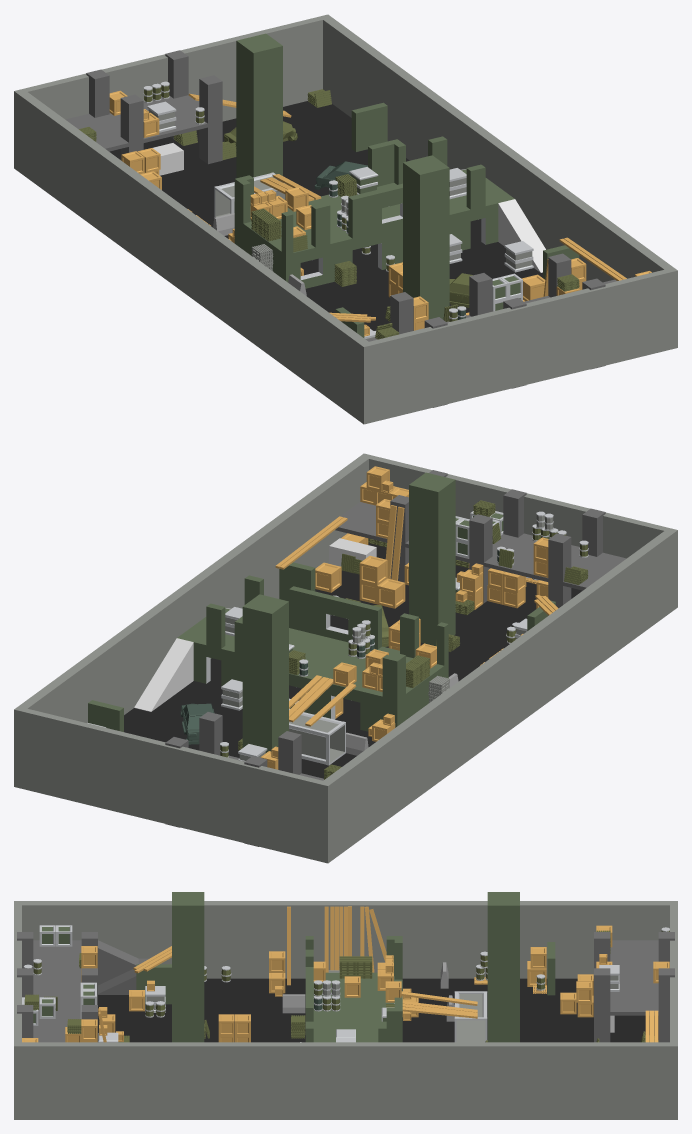
Rendered from outpost.glb.
The picture shows the model from 3 angles, top to bottom: view 1: azimuth 30°, elevation 25°; view 2: azimuth 150°, elevation 25°; view 3: azimuth 270°, elevation 25°; orthographic projection. The views are drawn at different scales.
Parts seen in each view (by area): view 1: Cube.005_0, Cube_0, Plane_0, up2_0, Box_0, obj.000_0, Cube.005_1, Cube.001_0, Barrel.013_0; view 2: Cube.005_0, Cube_0, Box_0, up2_0, Plane_0, obj.000_0, Cube.005_1, Cube.001_0, Barrel.013_0; view 3: Cube.005_0, Cube_0, Plane_0, up2_0, Box_0, Cube.005_1, obj.000_0, Cube.029_0.
Boxes of the visible parts, bbox=[...] form: Cube.005_0: bbox=[14, 14, 677, 424]; Cube_0: bbox=[234, 33, 579, 337]; Plane_0: bbox=[110, 101, 542, 330]; up2_0: bbox=[65, 50, 616, 407]; Box_0: bbox=[109, 90, 651, 336]; obj.000_0: bbox=[79, 85, 579, 339]; Cube.005_1: bbox=[143, 81, 533, 339]; Cube.001_0: bbox=[153, 143, 545, 272]; Barrel.013_0: bbox=[314, 161, 465, 319]; Cube.005_0: bbox=[14, 453, 677, 863]; Cube_0: bbox=[88, 472, 555, 752]; Box_0: bbox=[260, 466, 558, 769]; up2_0: bbox=[165, 470, 626, 846]; Plane_0: bbox=[124, 543, 581, 778]; obj.000_0: bbox=[220, 500, 588, 779]; Cube.005_1: bbox=[87, 511, 588, 765]; Cube.001_0: bbox=[134, 538, 376, 711]; Barrel.013_0: bbox=[180, 550, 499, 744]; Cube.005_0: bbox=[14, 901, 677, 1119]; Cube_0: bbox=[33, 892, 555, 1042]; Plane_0: bbox=[98, 978, 658, 1042]; up2_0: bbox=[17, 932, 674, 1042]; Box_0: bbox=[22, 906, 669, 1042]; Cube.005_1: bbox=[22, 925, 669, 1042]; obj.000_0: bbox=[24, 930, 669, 1042]; Cube.029_0: bbox=[282, 962, 454, 1021].
Size of the model in its own units: 34 by 16.2 by 65.6.
